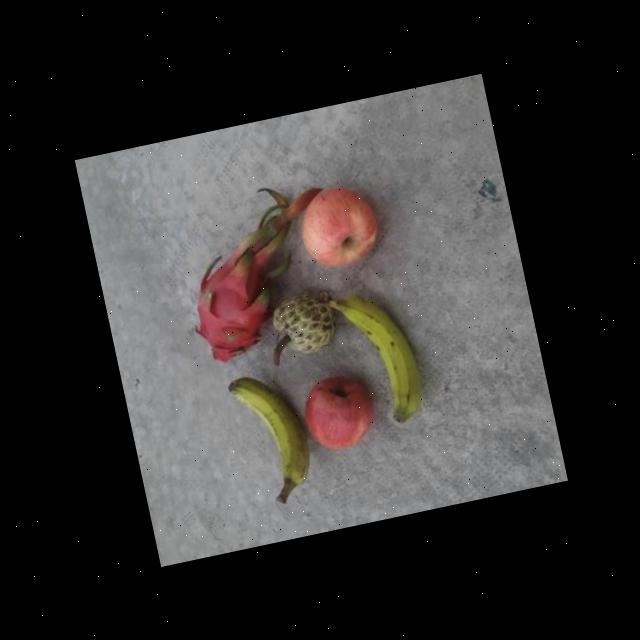Sakya fruit: (266, 288, 342, 358)
apple: (291, 175, 387, 273), (294, 370, 382, 456)
banana: (316, 270, 428, 434), (218, 361, 320, 512)
pitaya: (180, 255, 279, 362)
